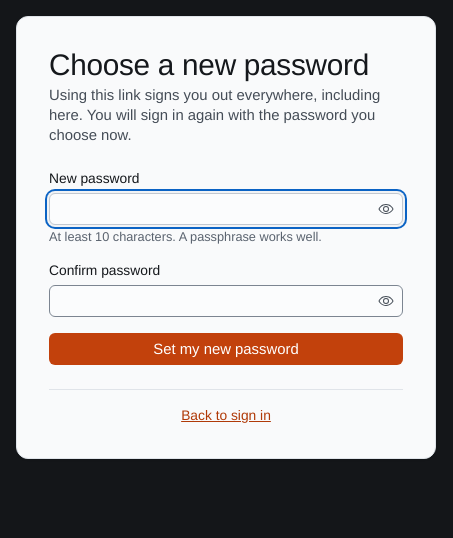
Test: ResetPasswordPage › reports an unreachable server above the form and keeps what was typed
Type "analytical-engine-1843" into the password field labelled "New password" at x=212, y=209, box [50,194,374,224]
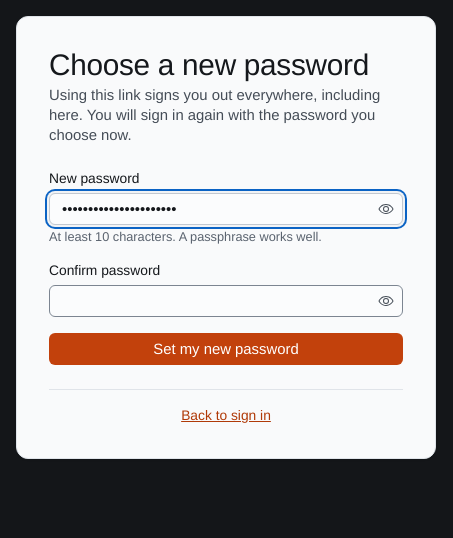
Type "analytical-engine-1843" into the password field labelled "Confirm password" at x=212, y=301, box [50,286,374,316]
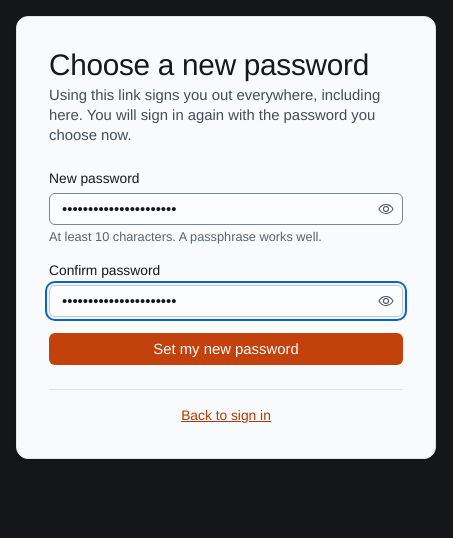
Click the button "Set my new password" at x=226, y=349, box [49,333,403,365]
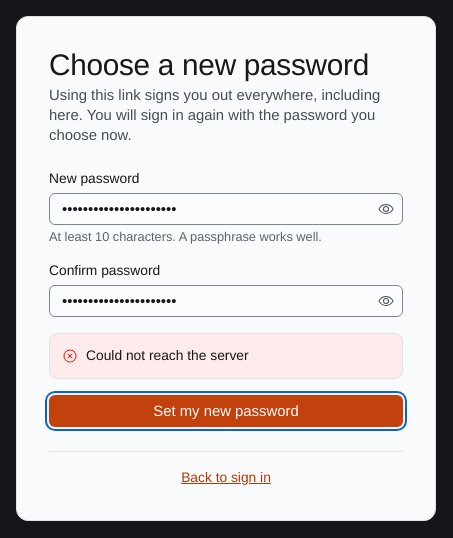
expect the message reads "Could not reach the server": met, box [86,347,249,364]
